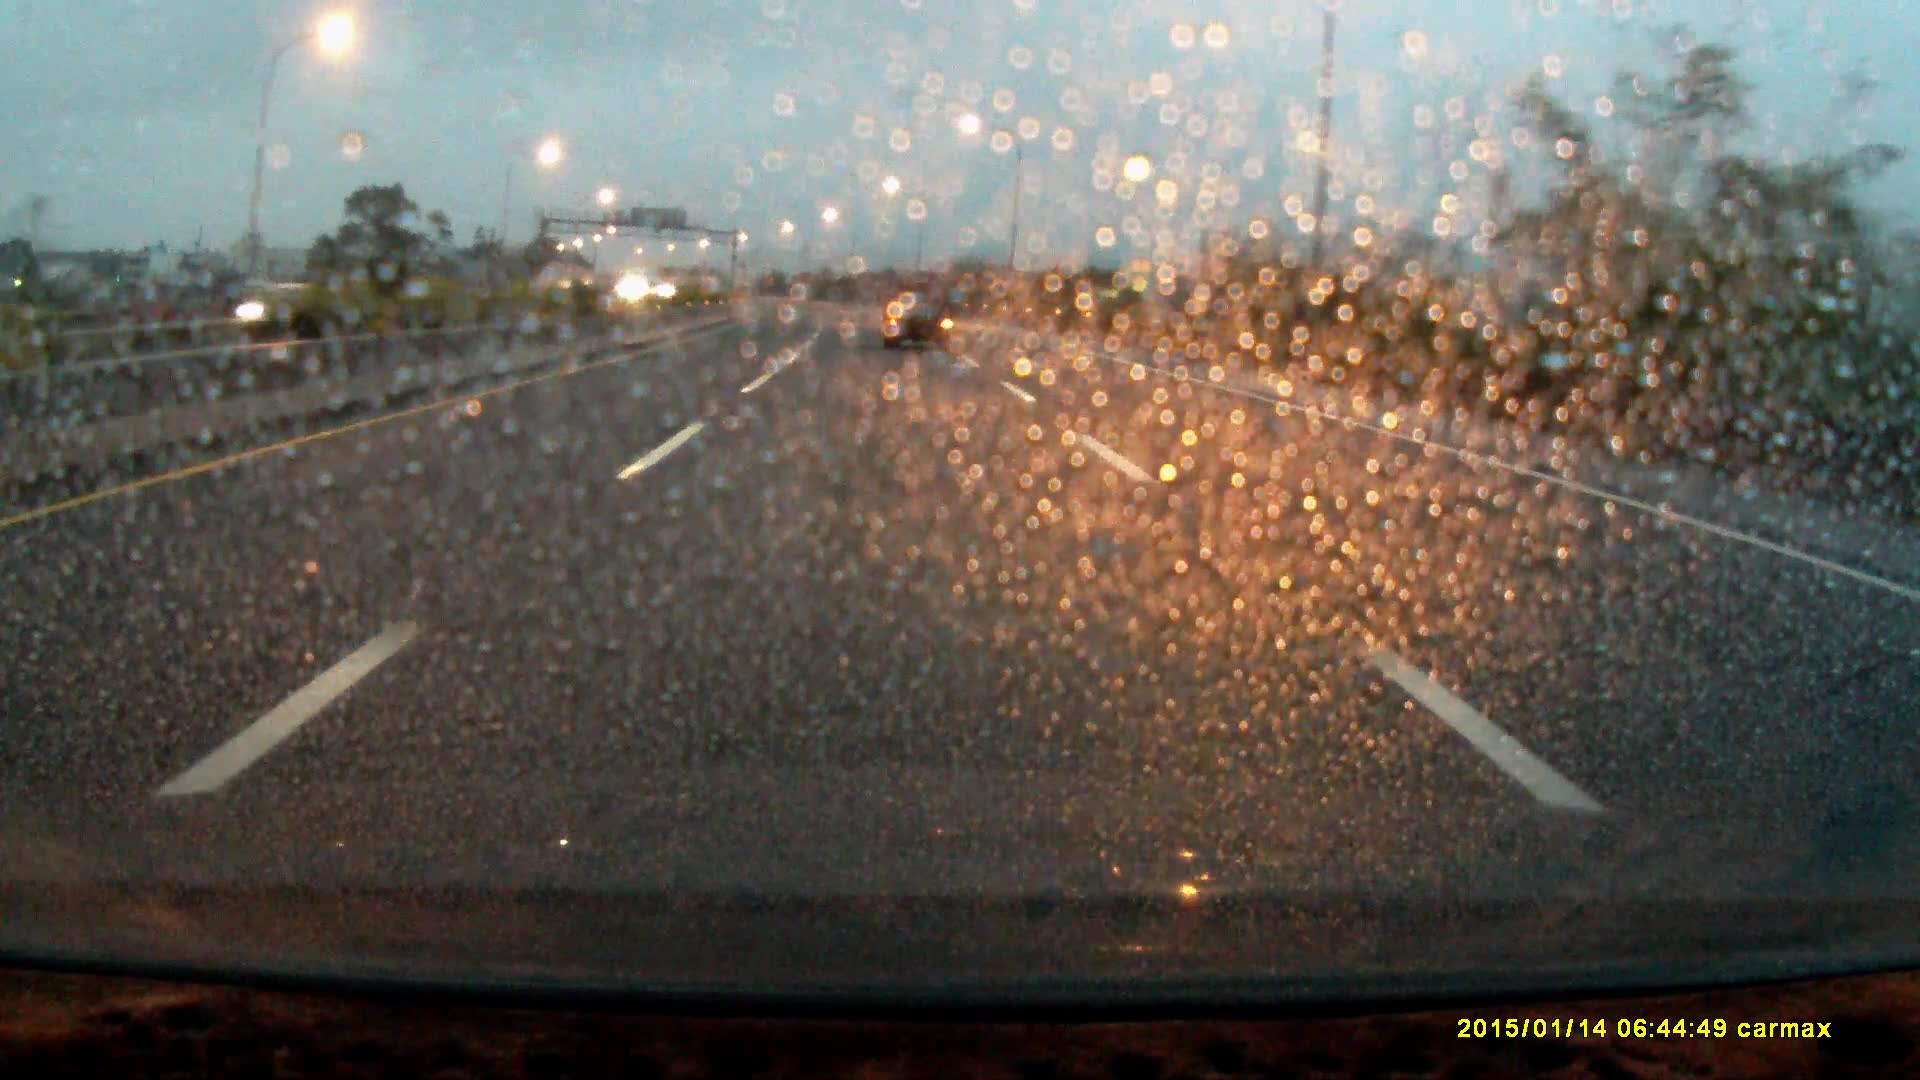vehicle: (882, 269, 953, 353)
